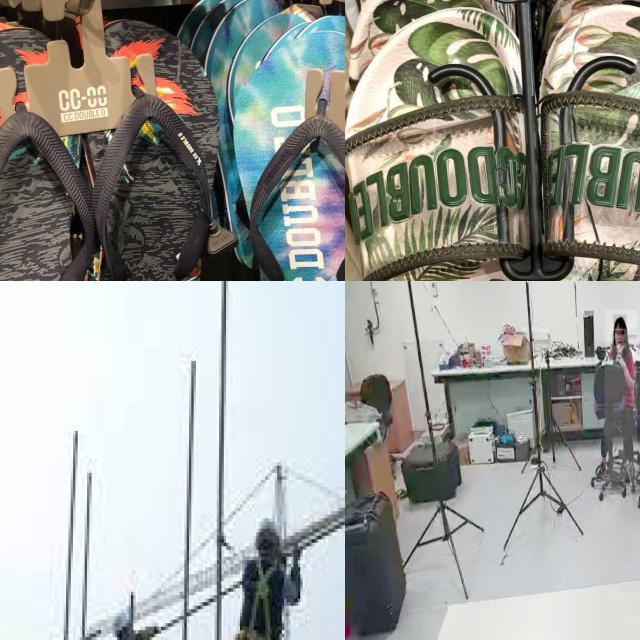Harness: (229, 551, 287, 640)
Sandals: (345, 0, 640, 281), (0, 0, 214, 281), (200, 0, 345, 281)
face_nomask: (614, 331, 625, 346)
hand_noglove: (616, 352, 626, 369)
head_nohelmet: (613, 314, 627, 330)
person: (604, 310, 638, 482)
